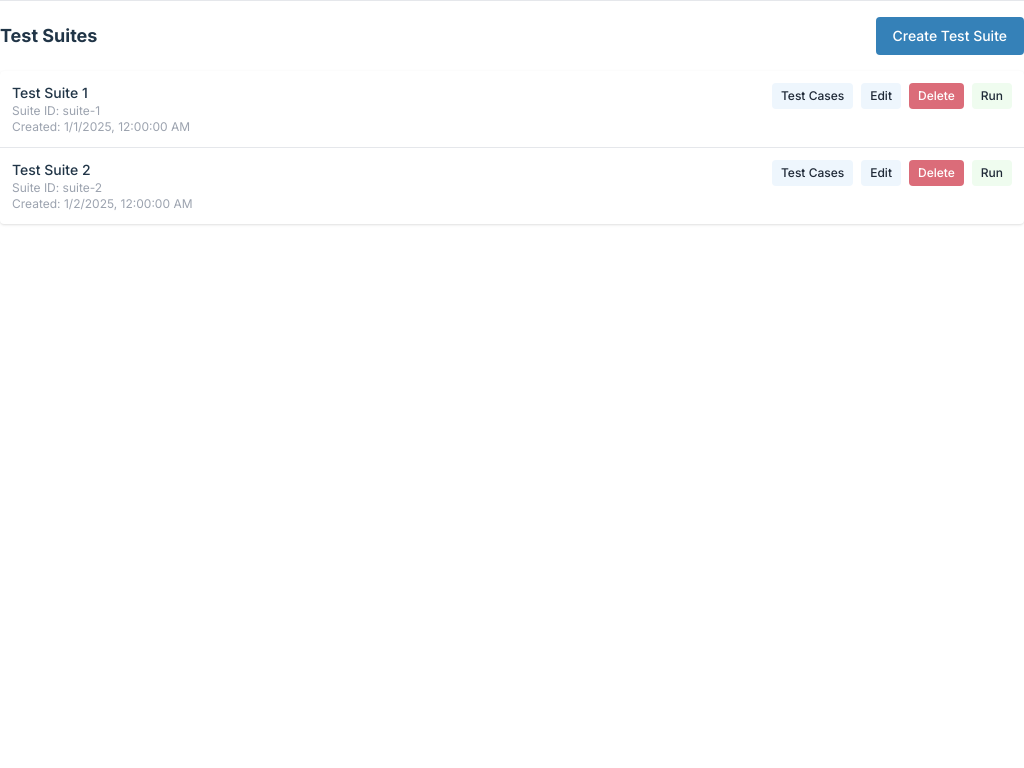
TestSuitePanel › opens edit modal when edit button is clicked
expect the text "Test Suite 1" is shown: met, box [12,84,88,101]
Step 1. Click the button "Edit" in the row of "Test Suite 1" → (881, 96), box [861,83,901,109]
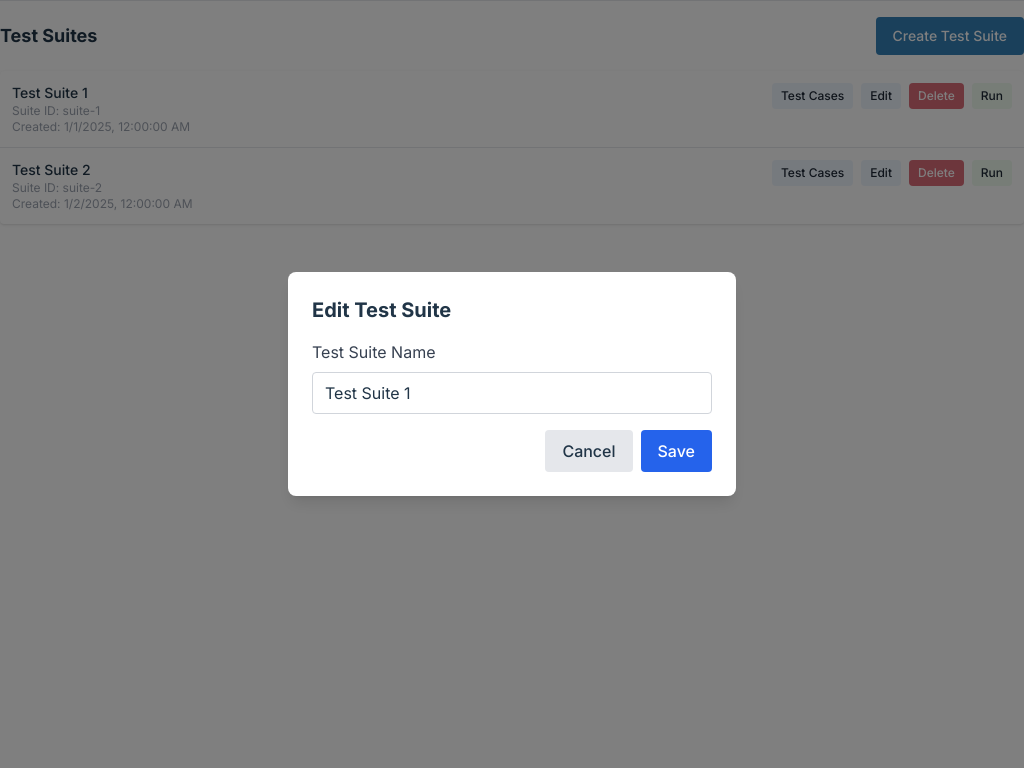
expect the heading "Edit Test Suite" is shown: met, box [312,298,451,322]
expect the field showing "Test Suite 1" is shown: met, box [312,372,712,414]
